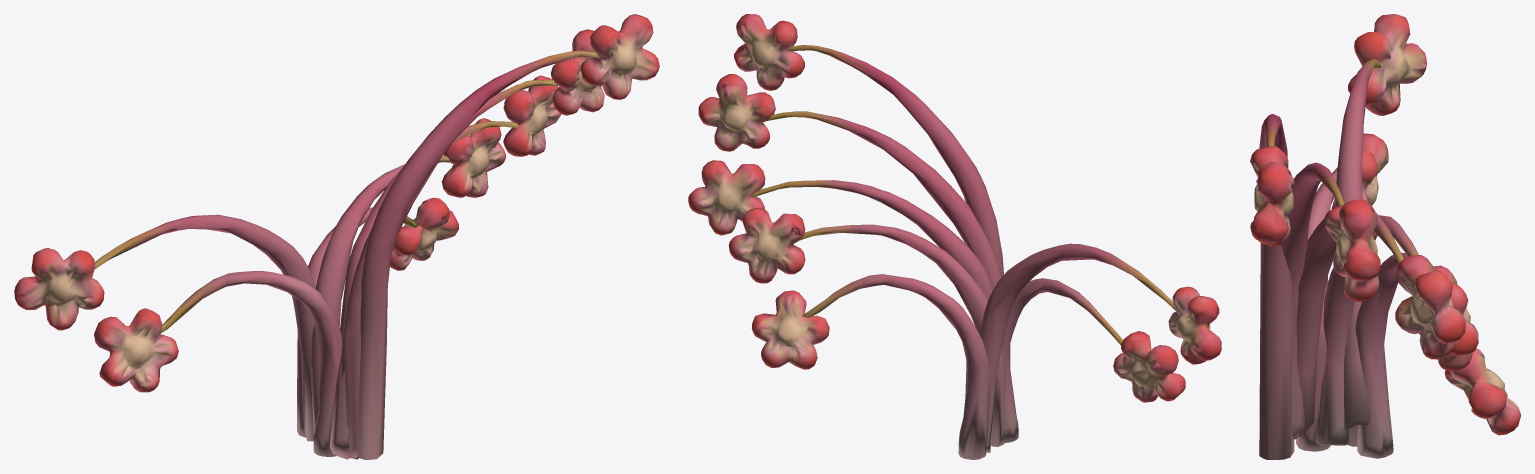
3 views of the same model, side by side, from view 1: azimuth 30°, elevation 25°; view 2: azimuth 150°, elevation 25°; view 3: azimuth 270°, elevation 25° (orthographic). The views are drawn at different scales.
Parts seen in each view (by area): view 1: LOD 5_6720493226539483728_d61aa4d54b65f9a4b9f71cf390cbd75f; view 2: LOD 5_6720493226539483728_d61aa4d54b65f9a4b9f71cf390cbd75f; view 3: LOD 5_6720493226539483728_d61aa4d54b65f9a4b9f71cf390cbd75f.
Boxes of the visible parts, left/top/right/bottom form: LOD 5_6720493226539483728_d61aa4d54b65f9a4b9f71cf390cbd75f: left=14, top=14, right=659, bottom=459; LOD 5_6720493226539483728_d61aa4d54b65f9a4b9f71cf390cbd75f: left=688, top=14, right=1221, bottom=459; LOD 5_6720493226539483728_d61aa4d54b65f9a4b9f71cf390cbd75f: left=1250, top=14, right=1520, bottom=459.
Bounding box in the file's own units: 13.84 × 8.6 × 4.65.
